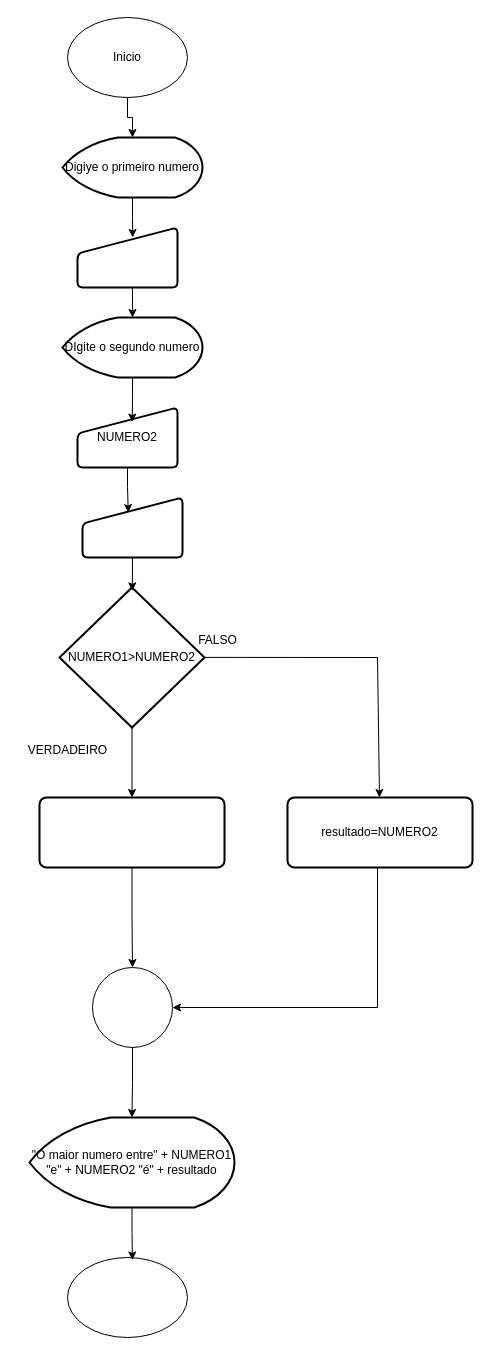
Image size: 490x1355. Some labels were removed from this diagram. The box of each missing label's shape, as (x1, y1, x2, y2) in pixels:
fim: (66, 1256, 188, 1338)
NUMERO1: (76, 226, 178, 288)
resultado: (81, 496, 183, 558)
resultado=NUMERO1: (38, 796, 225, 868)
